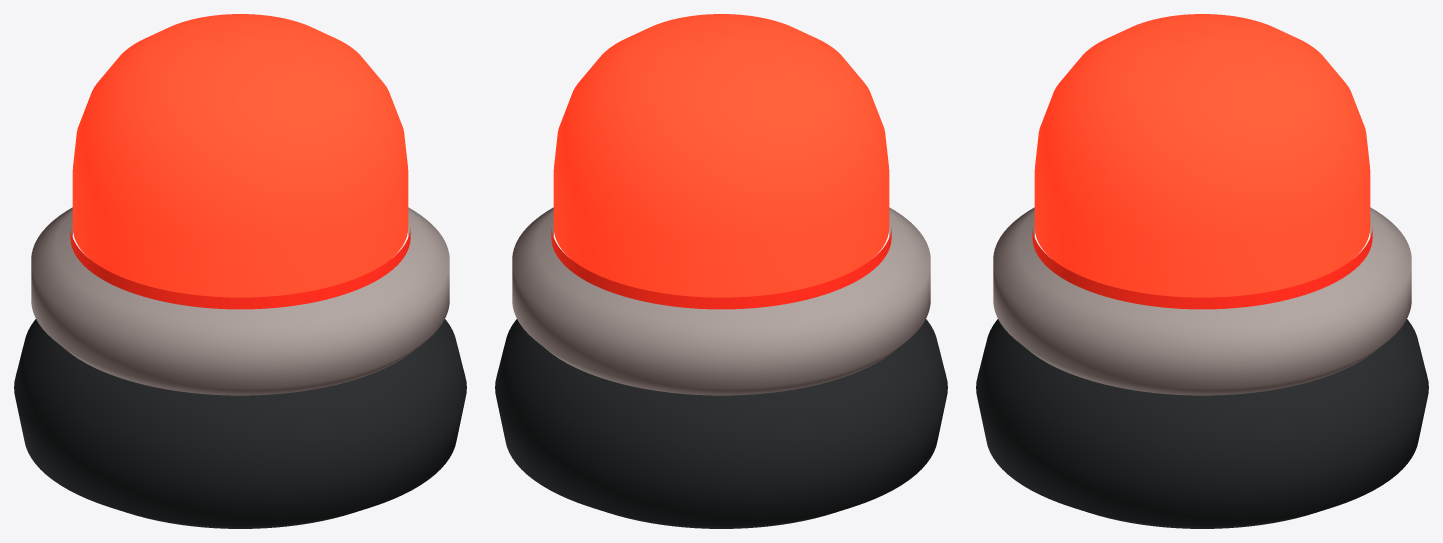
The model's file is BigRedButtonGlowLevel05.glb.
The picture shows the model from 3 angles, left to right: view 1: azimuth 30°, elevation 25°; view 2: azimuth 150°, elevation 25°; view 3: azimuth 270°, elevation 25°; orthographic projection.
Parts seen in each view (by area): view 1: button, button_base, metal_bezel, cap_side_shadow; view 2: button, button_base, metal_bezel, cap_side_shadow; view 3: button, button_base, metal_bezel, cap_side_shadow.
Boxes of the visible parts, left/top/right/bottom form: button: left=72, top=14, right=408, bottom=297; button_base: left=14, top=319, right=466, bottom=528; metal_bezel: left=31, top=207, right=449, bottom=395; cap_side_shadow: left=70, top=228, right=410, bottom=309; button: left=553, top=14, right=889, bottom=297; button_base: left=495, top=319, right=947, bottom=528; metal_bezel: left=512, top=207, right=930, bottom=395; cap_side_shadow: left=551, top=228, right=891, bottom=309; button: left=1034, top=14, right=1370, bottom=297; button_base: left=976, top=319, right=1428, bottom=528; metal_bezel: left=993, top=207, right=1411, bottom=395; cap_side_shadow: left=1032, top=228, right=1372, bottom=309.
Size of the model in its own units: 0.0185 by 0.0185 by 0.0185.
